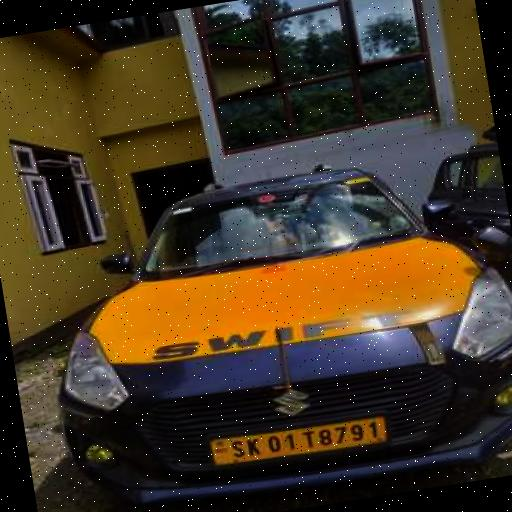license_plate`: (208, 413, 386, 468)
